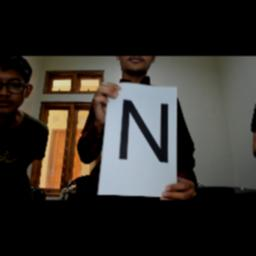n: (109, 98, 181, 166)
